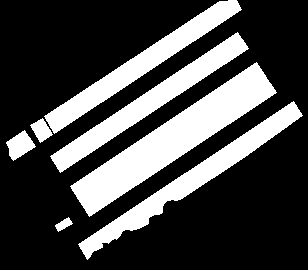parkingspot: (78, 101, 302, 259), (50, 32, 248, 172), (79, 76, 276, 216), (70, 62, 266, 202), (44, 0, 241, 133), (6, 130, 35, 160), (30, 118, 52, 142), (55, 217, 72, 231)
